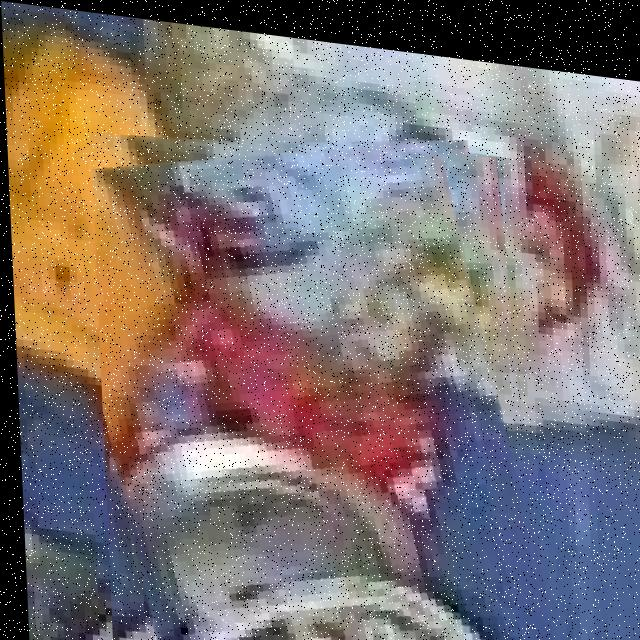can: (87, 102, 542, 640)
